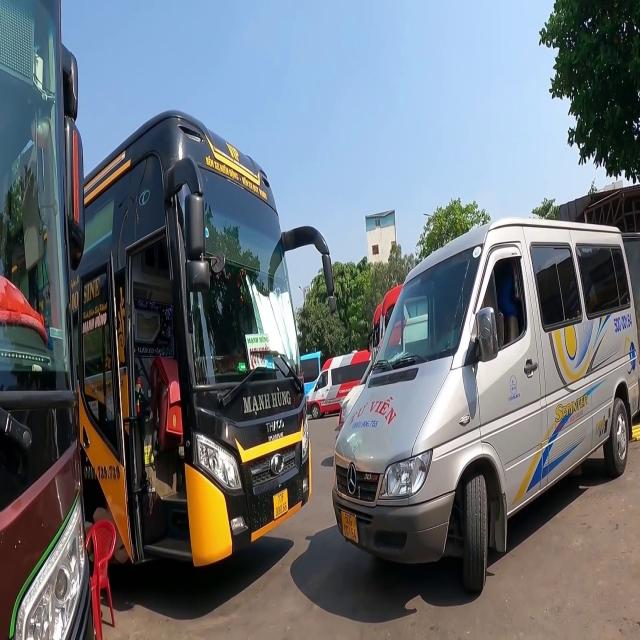bien_vang: (341, 509, 358, 546), (272, 490, 290, 521)
